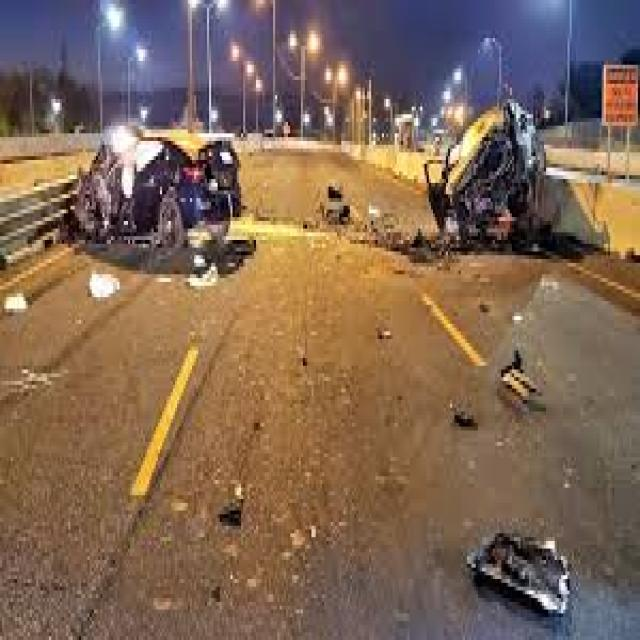car-serious-accident: (53, 78, 580, 293)
